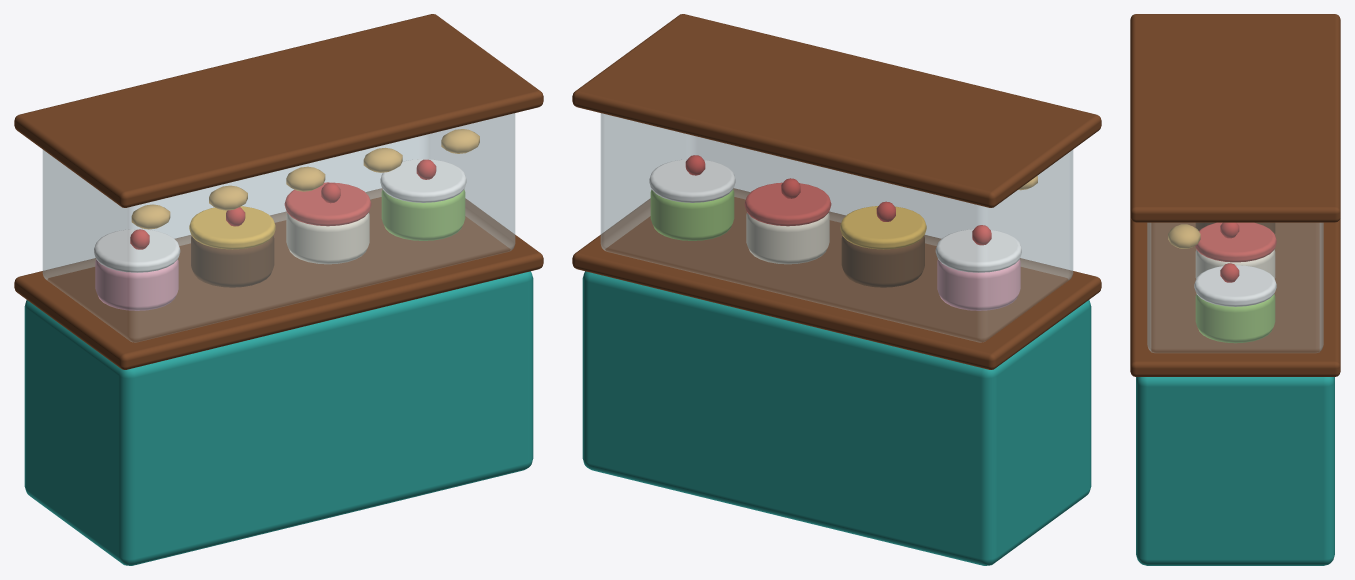
The model's file is pastry_case.glb.
3 views of the same model, side by side, from view 1: azimuth 30°, elevation 25°; view 2: azimuth 150°, elevation 25°; view 3: azimuth 270°, elevation 25° (orthographic). The views are drawn at different scales.
Visible parts, largest first — view 1: pastry_case; view 2: pastry_case; view 3: pastry_case.
Boxes of the visible parts, x1=… form: pastry_case: x1=14, y1=14, x2=543, y2=565; pastry_case: x1=572, y1=14, x2=1101, y2=565; pastry_case: x1=1130, y1=14, x2=1340, y2=565.
Size of the model in its own units: 1.64 by 1.41 by 0.74.
